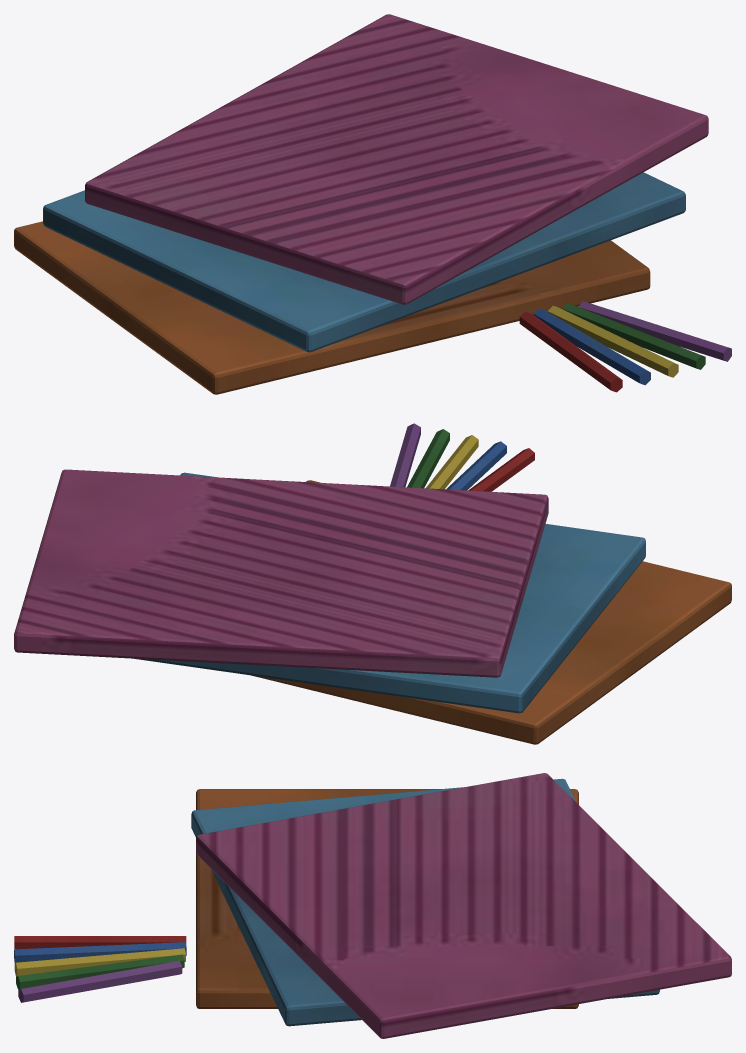
File: TY45_ColoringBooks.glb
3 renders of one model, top to bottom at view 1: azimuth 30°, elevation 25°; view 2: azimuth 150°, elevation 25°; view 3: azimuth 270°, elevation 25°, orthographic. The views are drawn at different scales.
Visible parts, largest first — view 1: TY45_ColoringBooks; view 2: TY45_ColoringBooks; view 3: TY45_ColoringBooks.
Part boxes in pixels (box(x1,y1,x2,y2)): TY45_ColoringBooks: box(14, 14, 731, 394); TY45_ColoringBooks: box(14, 423, 731, 744); TY45_ColoringBooks: box(14, 773, 731, 1038).
Bounding box in the file's own units: 0.2255 × 0.024 × 0.25.
Materials: 8 (8 with a texture image).
